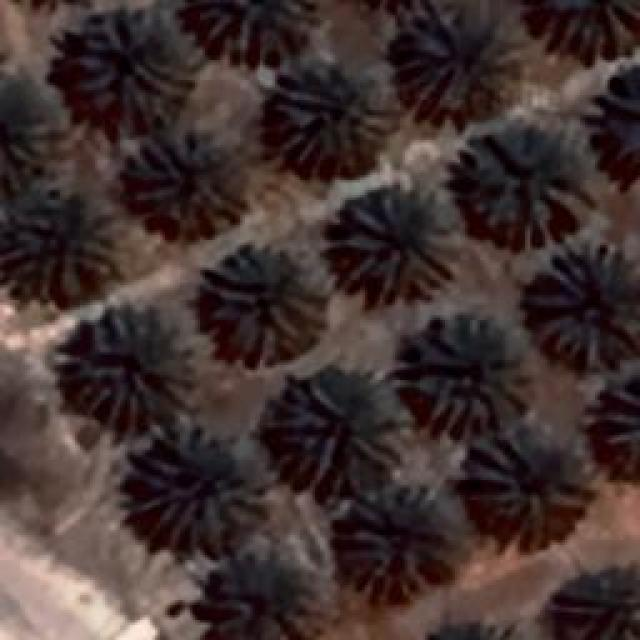PalmTree: (127, 415, 270, 550), (262, 370, 408, 492), (452, 120, 592, 245), (67, 302, 195, 430), (200, 240, 328, 365), (262, 49, 392, 172), (405, 310, 535, 432), (330, 182, 460, 302), (392, 2, 526, 116), (520, 242, 638, 370), (62, 8, 192, 120), (127, 125, 240, 240), (340, 482, 442, 602), (462, 428, 582, 530), (0, 200, 118, 302), (188, 560, 308, 640), (542, 565, 640, 640), (195, 0, 315, 60), (532, 0, 640, 65), (62, 112, 621, 119), (604, 378, 638, 478), (411, 618, 532, 640), (408, 623, 539, 640), (32, 112, 62, 130)
